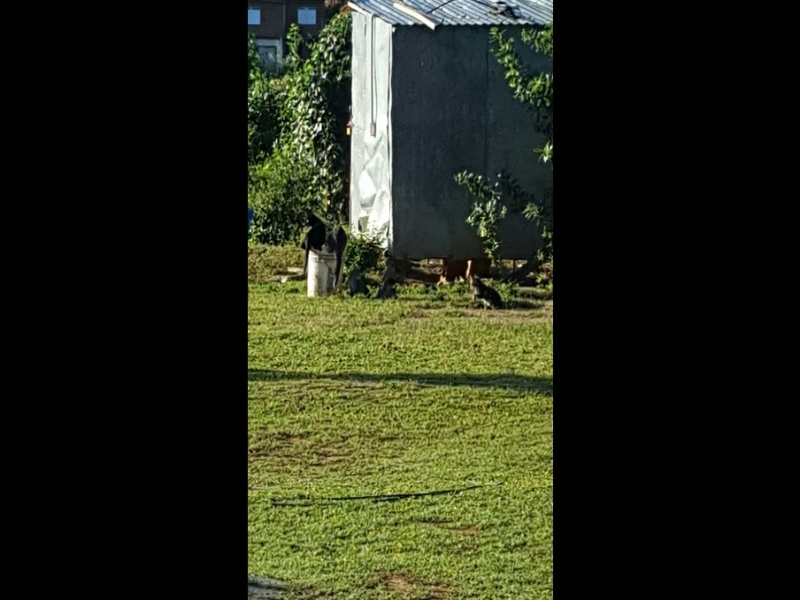cat: (464, 276, 508, 312)
